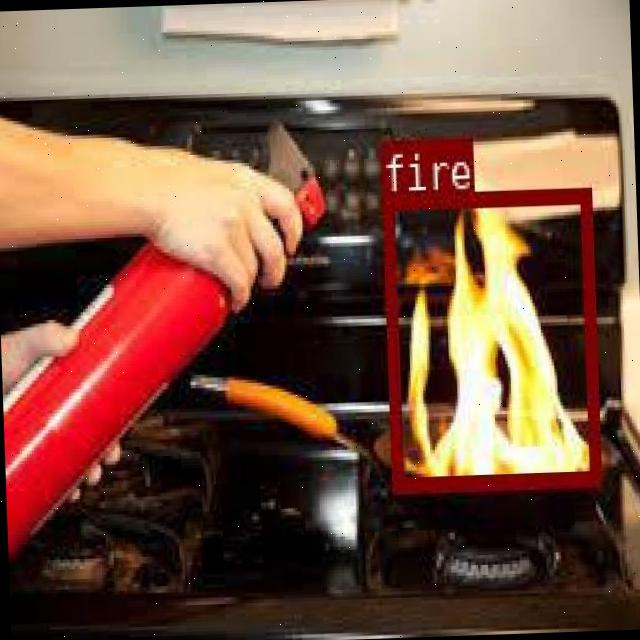fire: (380, 187, 599, 490)
